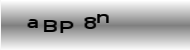8: (83, 16, 97, 30)
B: (42, 20, 58, 33)
P: (59, 20, 74, 34)
a: (26, 17, 39, 28)
n: (96, 12, 110, 24)
